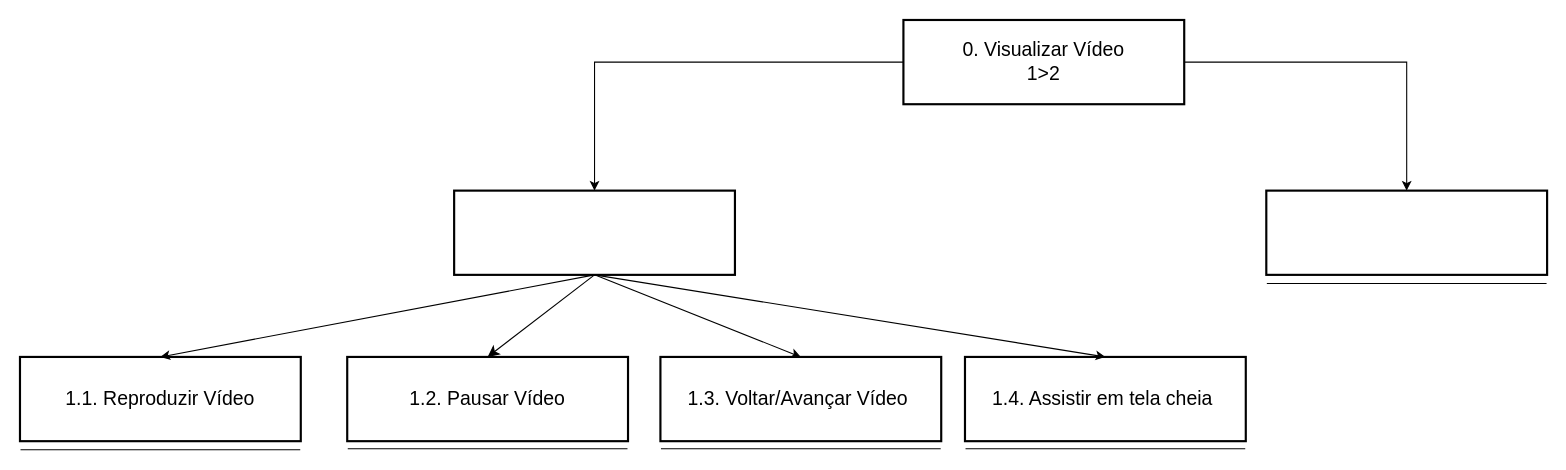
This 1566x470 diagram has some shape labels left out. The shapes that lost their labels are listed below. From the top down, each one's centre as x and y in pixels, then its label:
point 594,232: 1. Assistir ao Vídeo 1 + (2/3/4)
point 1406,232: 2. Fechar Vídeo
